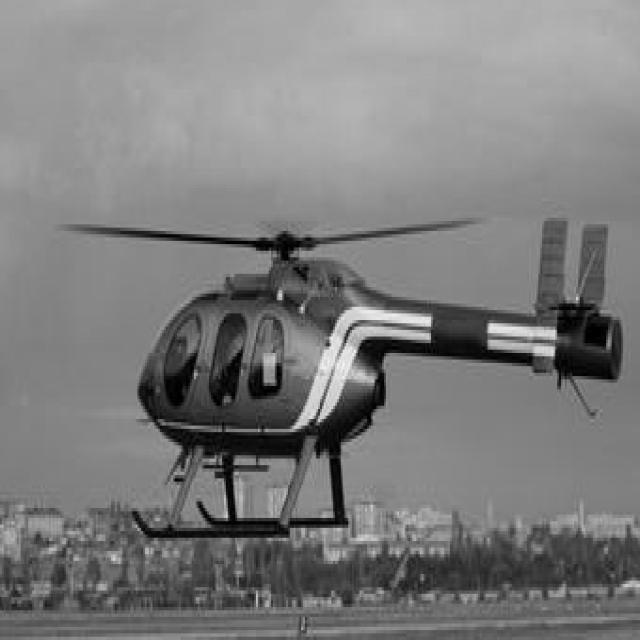helicopter: (74, 150, 630, 556)
